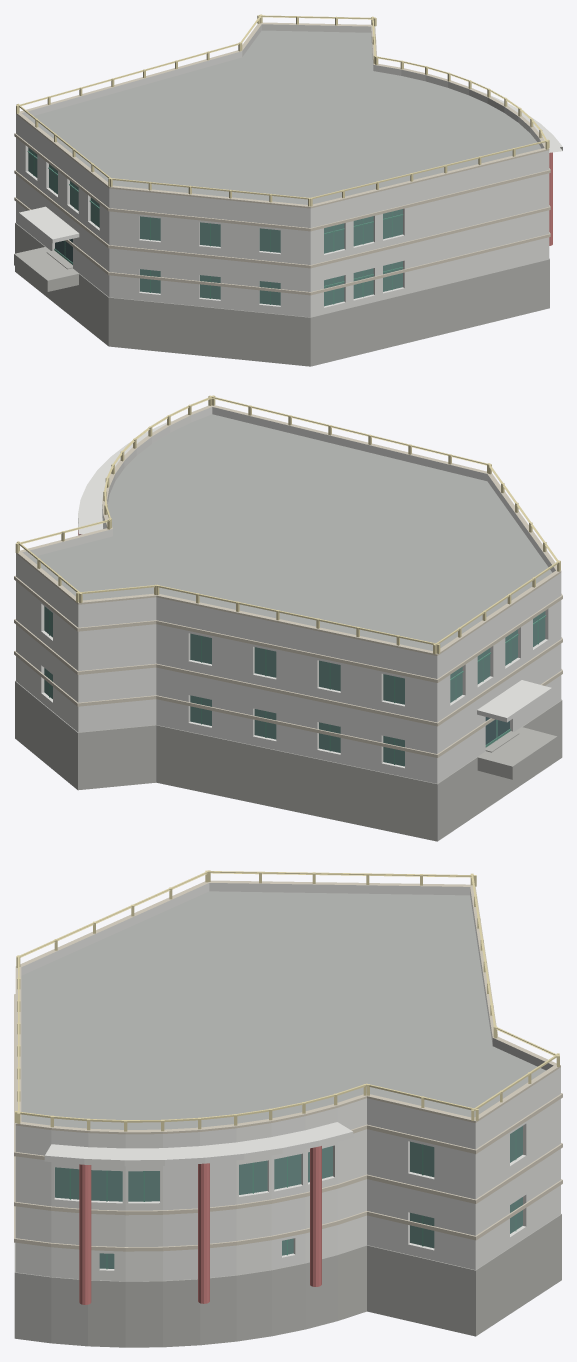
3 views of the same model, one above another, from view 1: azimuth 30°, elevation 25°; view 2: azimuth 150°, elevation 25°; view 3: azimuth 270°, elevation 25° (orthographic). The views are drawn at different scales.
Visible parts, largest first — view 1: N15 grey roof deck, N15 white ceramic tile walls, N15 granite base, N15 beige stone string courses, N15 green framed glass, N15 cream roof railing pole, N15 white curved eave brow, N15 green window frames; view 2: N15 grey roof deck, N15 white ceramic tile walls, N15 granite base, N15 beige stone string courses, N15 green framed glass, N15 cream roof railing pole, N15 white curved eave brow, N15 green window frames; view 3: N15 grey roof deck, N15 white ceramic tile walls, N15 granite base, N15 beige stone string courses, N15 green framed glass, N15 white curved eave brow, N15 cream roof railing pole, N15 red round columns pole.
Boxes of the visible parts, <box> form: N15 grey roof deck: <box>27,30,541,204</box>; N15 white ceramic tile walls: <box>16,24,549,317</box>; N15 granite base: <box>14,222,549,366</box>; N15 beige stone string courses: <box>14,22,550,295</box>; N15 green framed glass: <box>28,147,402,306</box>; N15 cream roof railing pole: <box>16,14,549,206</box>; N15 white curved eave brow: <box>19,90,562,243</box>; N15 green window frames: <box>27,151,403,304</box>; N15 grey roof deck: <box>29,414,552,650</box>; N15 white ceramic tile walls: <box>16,407,561,783</box>; N15 granite base: <box>15,680,562,841</box>; N15 beige stone string courses: <box>14,405,562,757</box>; N15 green framed glass: <box>44,606,545,766</box>; N15 cream roof railing pole: <box>15,395,560,654</box>; N15 white curved eave brow: <box>78,421,551,722</box>; N15 green window frames: <box>49,610,546,764</box>; N15 grey roof deck: <box>21,891,545,1129</box>; N15 white ceramic tile walls: <box>15,883,560,1281</box>; N15 granite base: <box>14,1214,561,1347</box>; N15 beige stone string courses: <box>14,880,562,1251</box>; N15 green framed glass: <box>55,1126,522,1268</box>; N15 white curved eave brow: <box>44,1122,353,1166</box>; N15 cream roof railing pole: <box>15,870,559,1131</box>; N15 red round columns pole: <box>79,1146,321,1304</box>.
Bounding box in the file's own units: 35.85 × 13.32 × 29.4.
